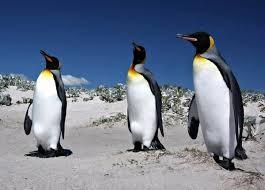king: (165, 20, 257, 175), (112, 34, 172, 170), (21, 40, 77, 167)
